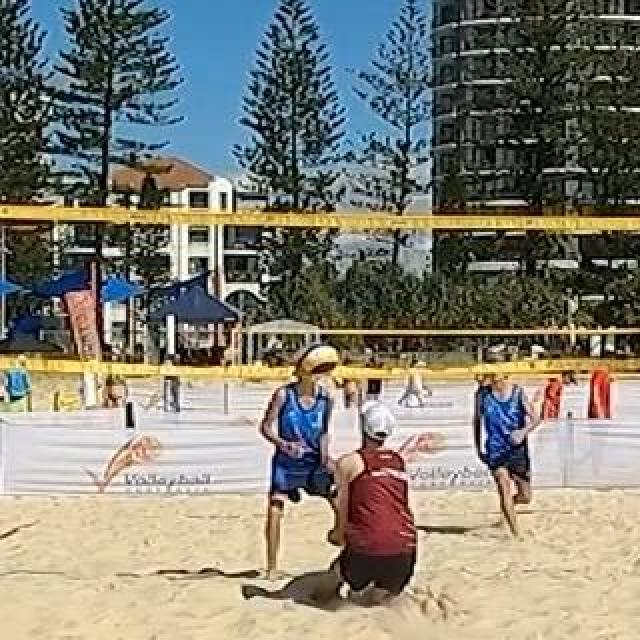volleyball: (303, 342, 339, 378)
